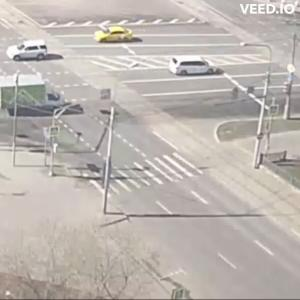car: (169, 58, 223, 78), (9, 40, 50, 62), (92, 26, 134, 46)
